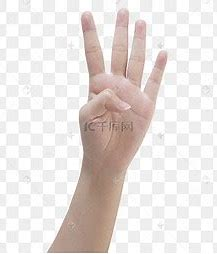right: (77, 5, 169, 156)
